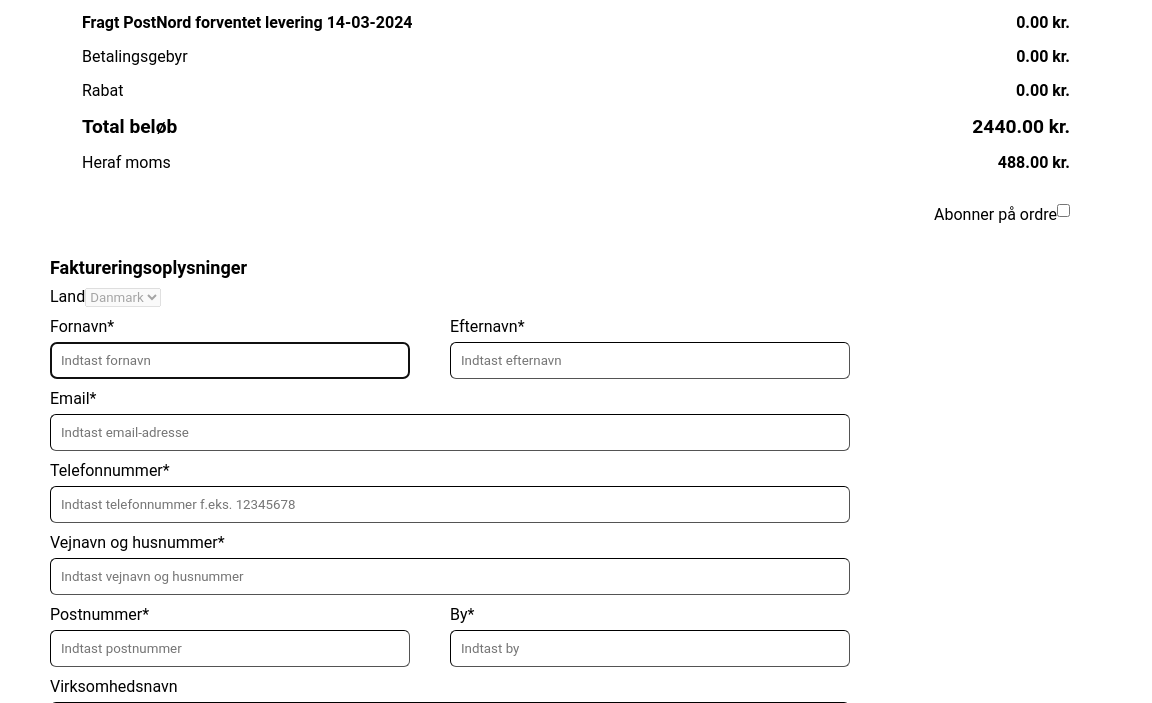
Test: Testing Contactform › field Telefonnummer should not allow users to type in chars
This screenshot has width=1152, height=703.
(page scrolled)
Type "Simon" into the field labelled "Fornavn*" at (230, 360), box [50,342,410,379]
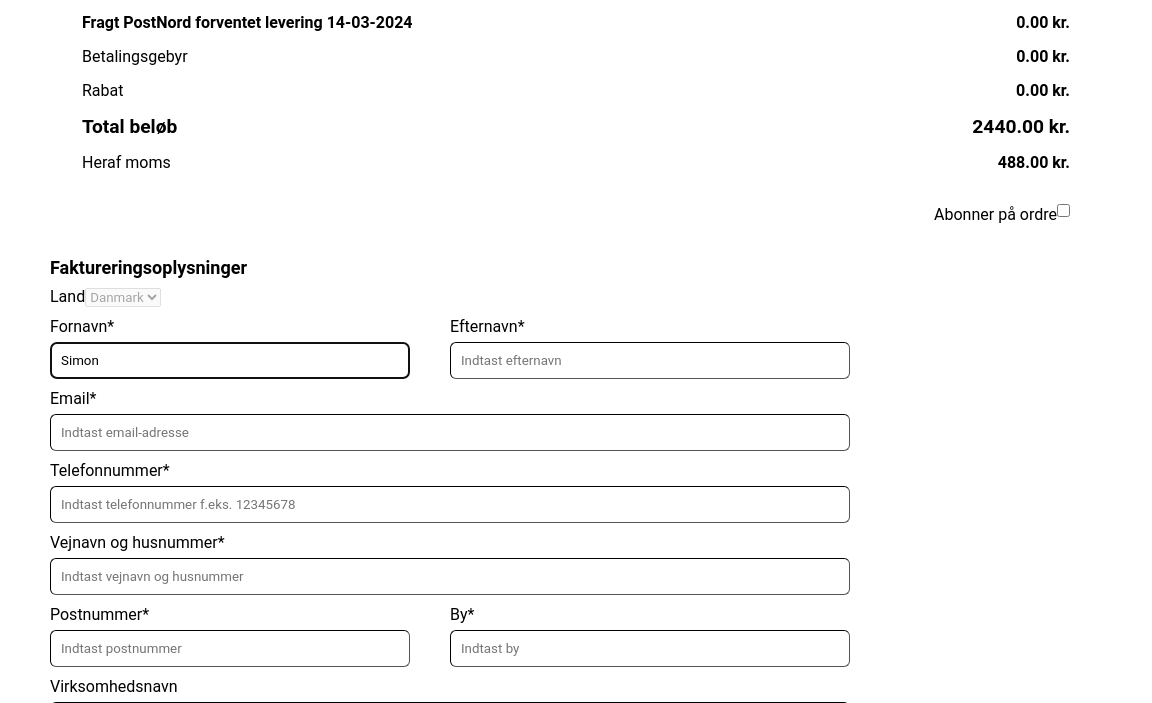
Type "testtest" into the field labelled "Telefonnummer*" at (450, 504), box [50,486,850,523]
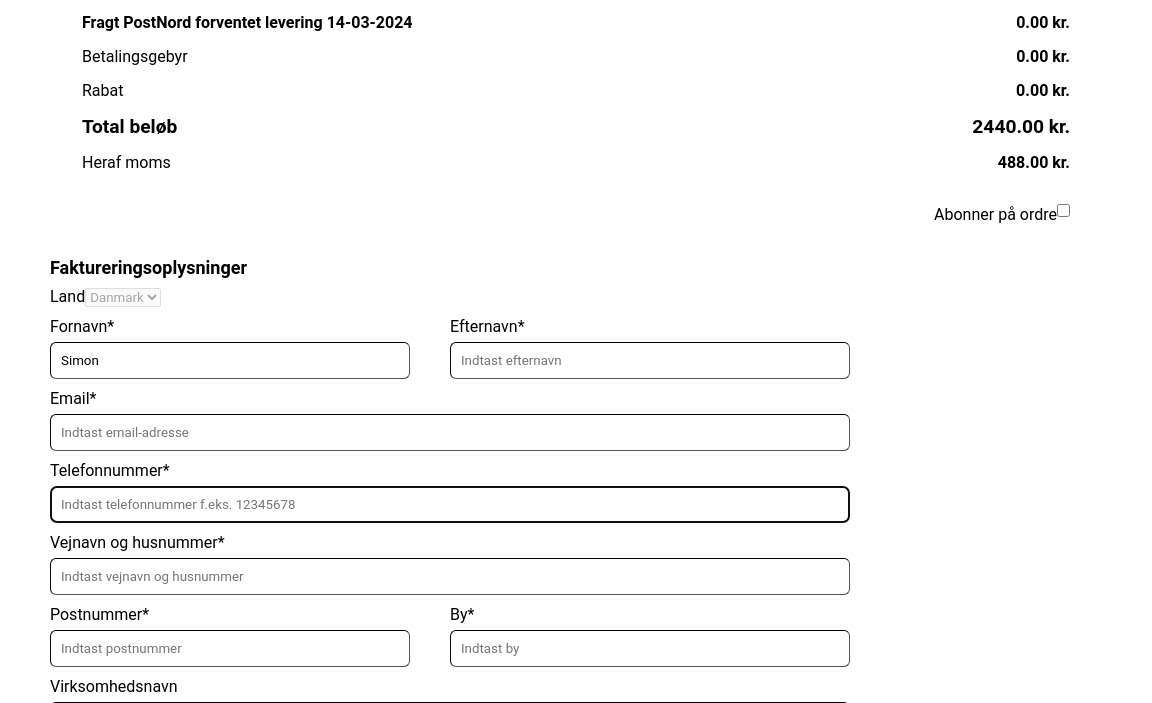
Leave the field labelled "Telefonnummer*", box [50,486,850,523]
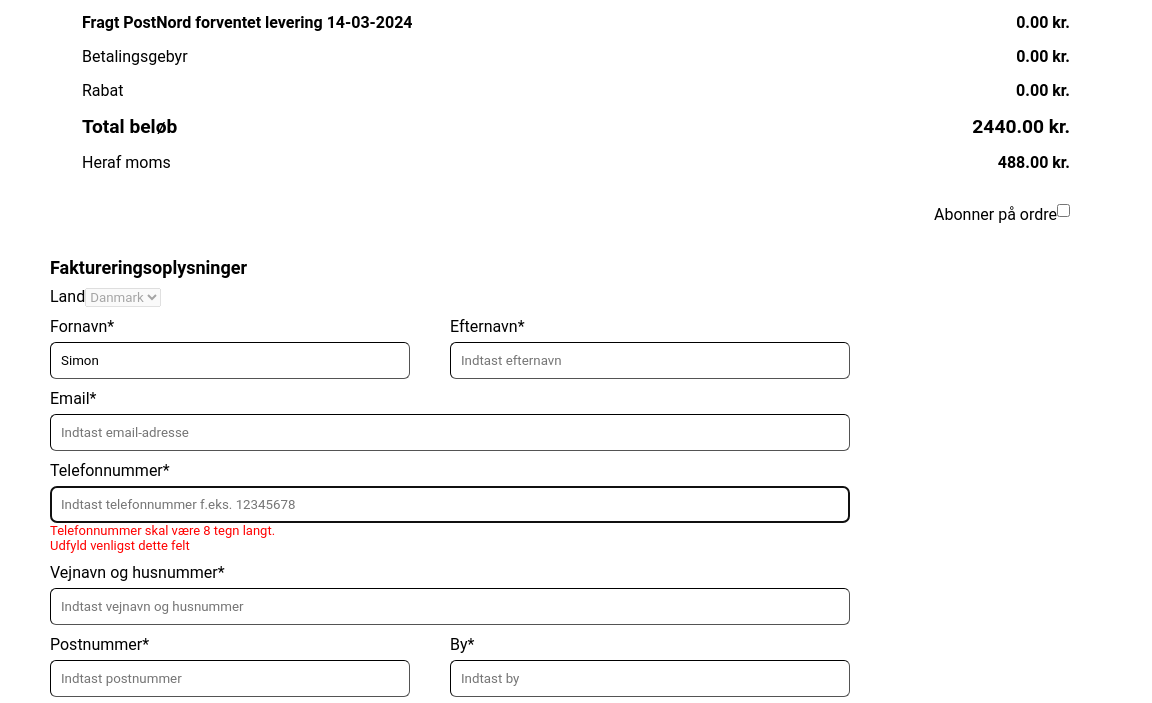
Expected: the text "Udfyld venligst dette felt" is shown, [50,538,190,553]
